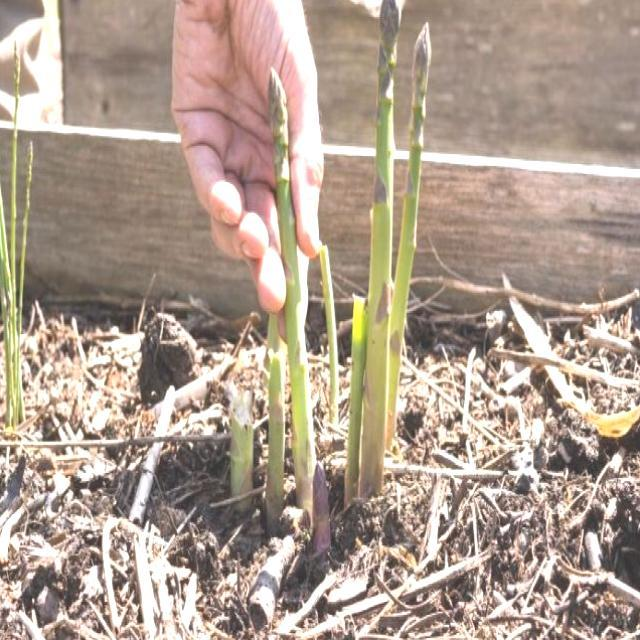aspargus: (268, 63, 319, 520), (360, 1, 400, 497)
